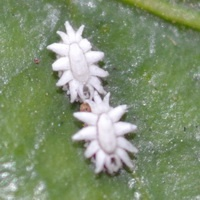insect: (72, 91, 137, 173), (47, 21, 107, 102)
